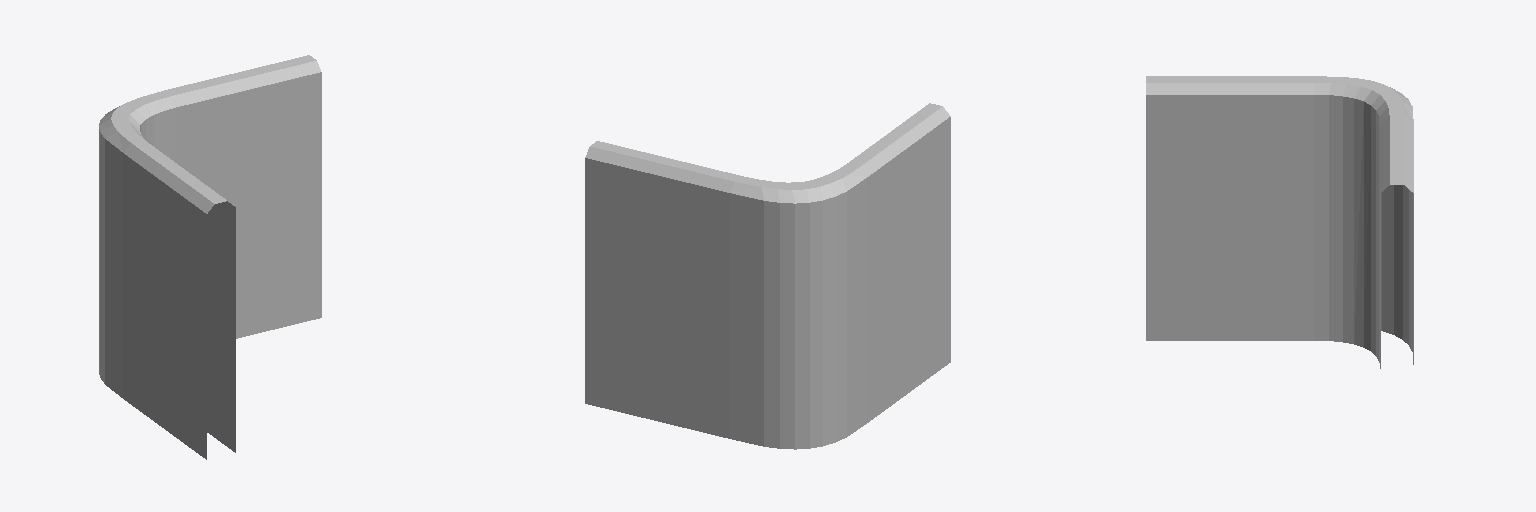
The model's file is InnerWall_corner.obj.
3 views of the same model, side by side, from view 1: azimuth 30°, elevation 25°; view 2: azimuth 150°, elevation 25°; view 3: azimuth 270°, elevation 25° (orthographic).
Parts seen in each view (by area): view 1: inner_wall_corner; view 2: inner_wall_corner; view 3: inner_wall_corner.
Boxes of the visible parts, x1=… form: inner_wall_corner: x1=99, y1=55, x2=321, y2=459; inner_wall_corner: x1=585, y1=103, x2=950, y2=449; inner_wall_corner: x1=1146, y1=76, x2=1413, y2=368.
Size of the model in its own units: 2.67 by 2.79 by 2.67.